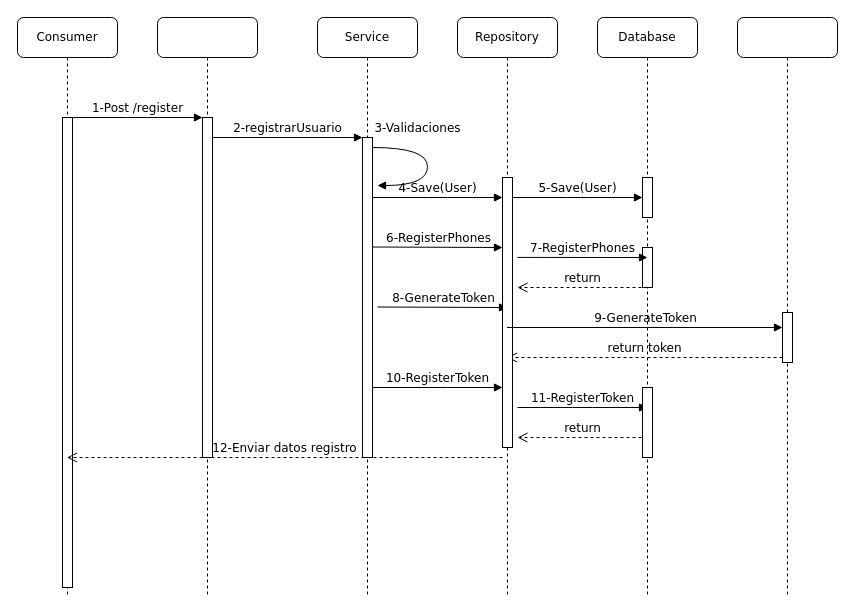
Some shapes in this 855 by 615 pixel diagram are drawn without their labels. The box of each missing label's shape, as (x1, y1, x2, y2) in pixels:
Controller: (156, 16, 258, 598)
Util: (736, 16, 838, 598)
